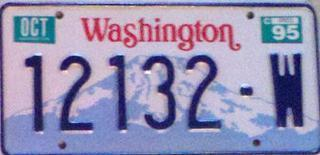placa de veiculo: (5, 5, 311, 155)
